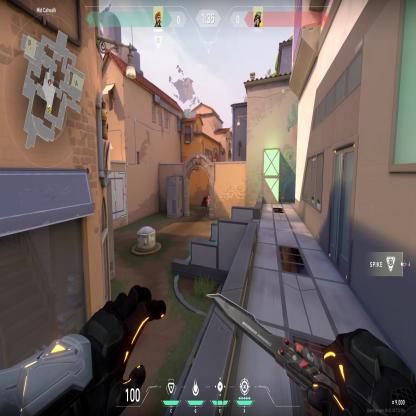enemy: (206, 194, 209, 216)
